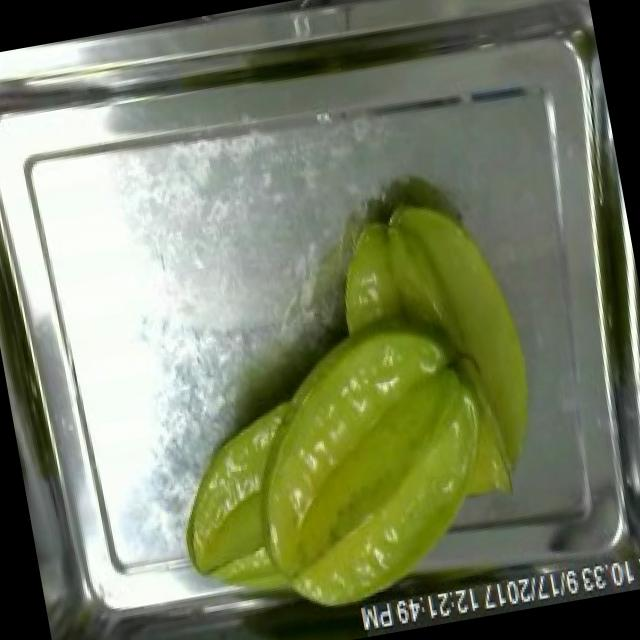fruit: (139, 293, 538, 640)
